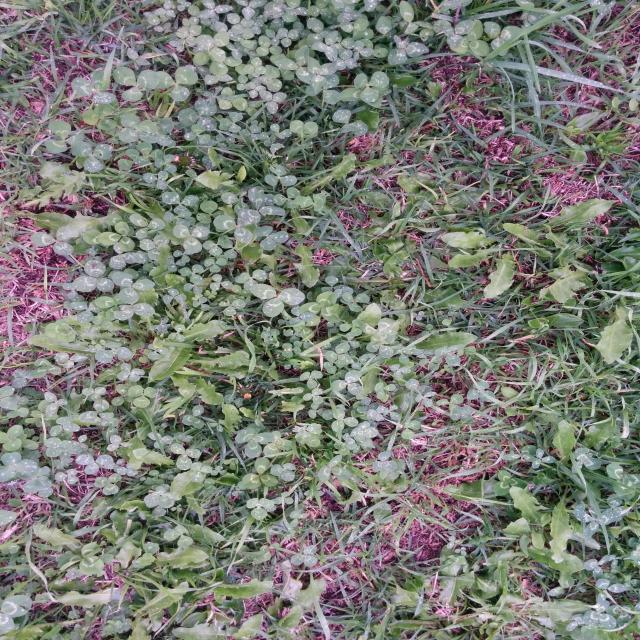Four Leaf Clover: (119, 113, 159, 143), (117, 363, 145, 382)
